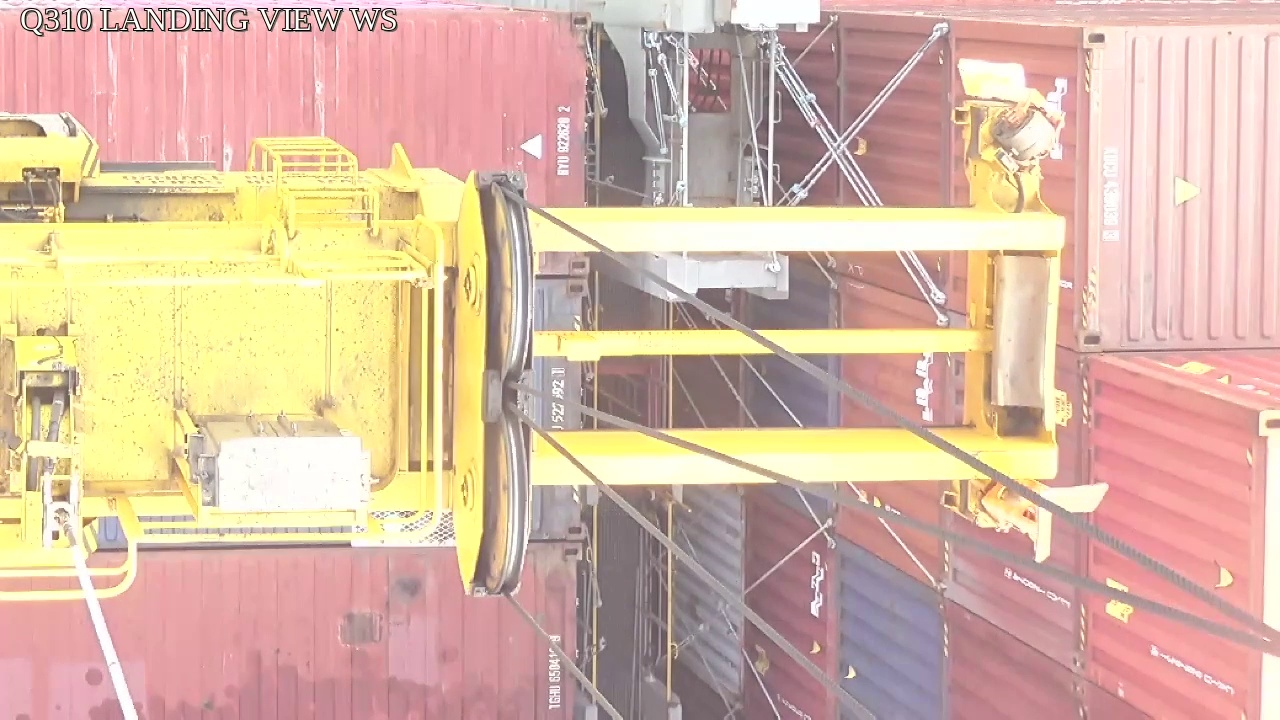right: (450, 168, 534, 600)
